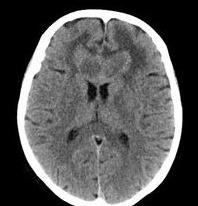Normal_Brain: (3, 1, 198, 206)
